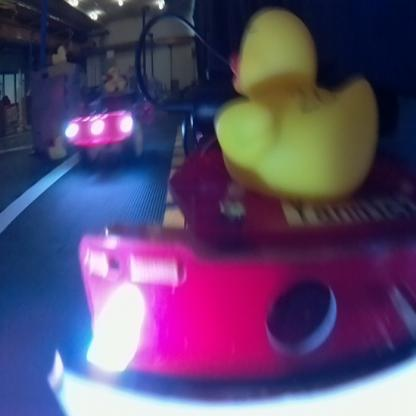duckie: (98, 59, 131, 91)
duckiebot: (207, 10, 371, 212), (60, 92, 144, 173)
